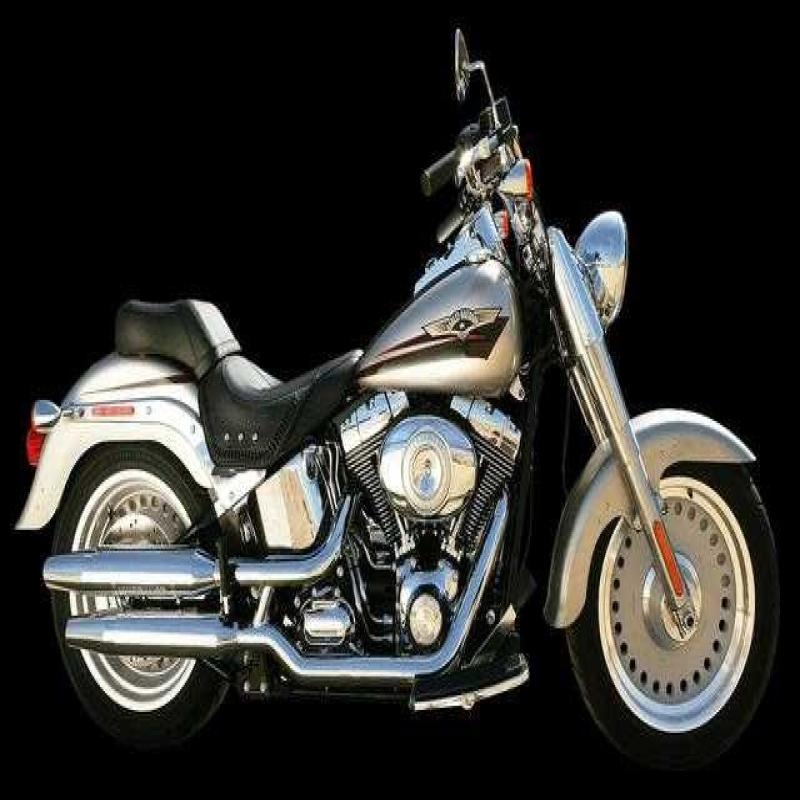bike: (0, 8, 794, 768)
